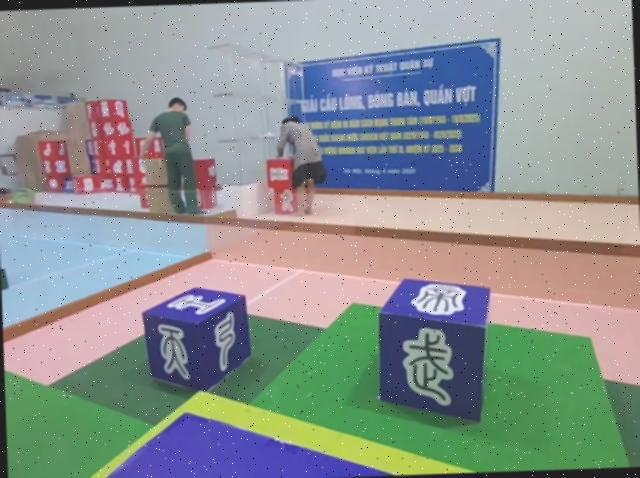R2 Fake Blue: (377, 278, 498, 430), (144, 285, 257, 394)
